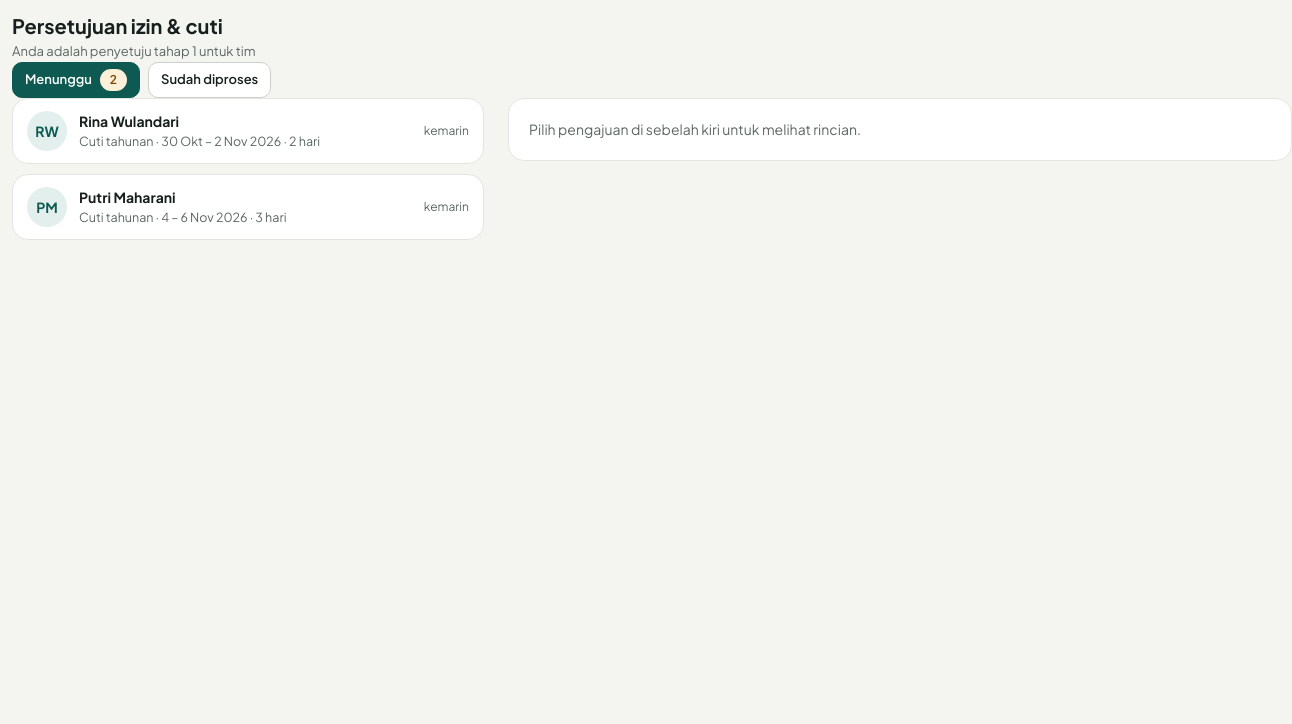
Test: ApprovalsPage (H-10) › menandai bentrok dengan rekan satu departemen
Click the button with test id "q-139". click: coordinates (248, 206)
box: [12, 174, 484, 240]
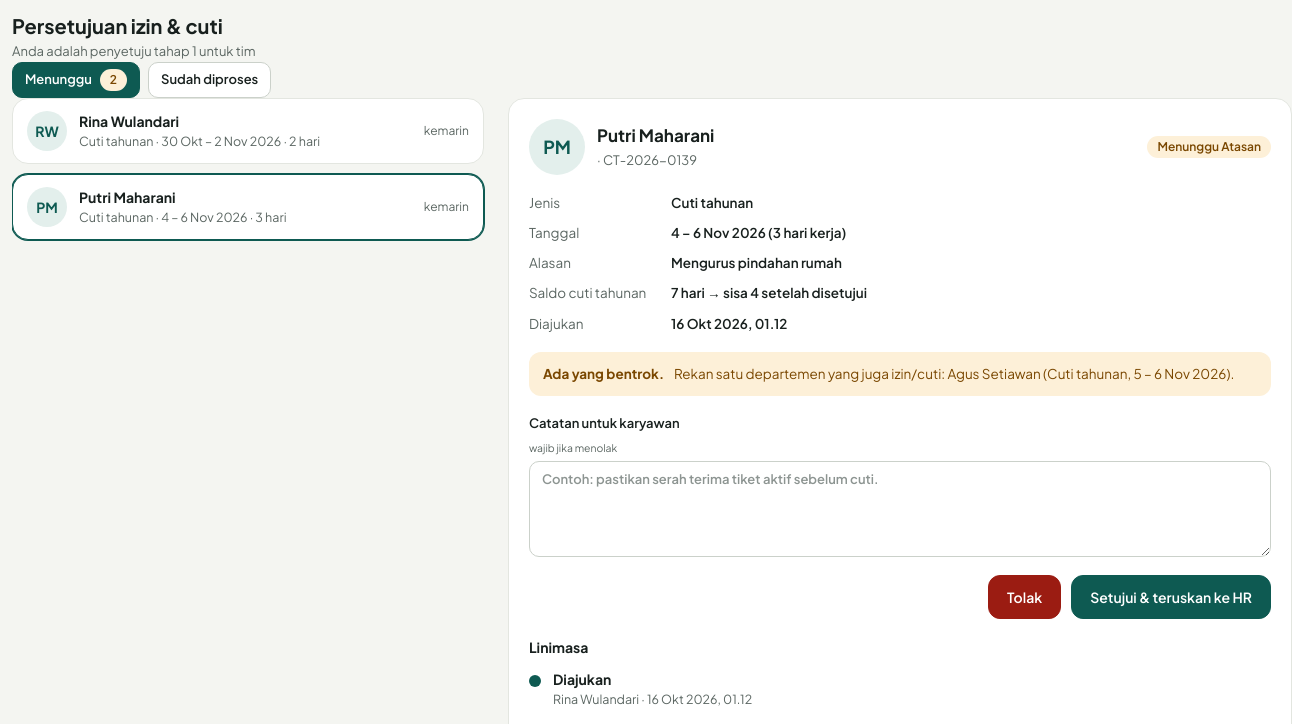
Now the element with test id "conflict" shows "Ada yang bentrok", box [543, 365, 664, 382]
Now the element with test id "conflict" shows "Agus Setiawan", box [674, 365, 1234, 382]
